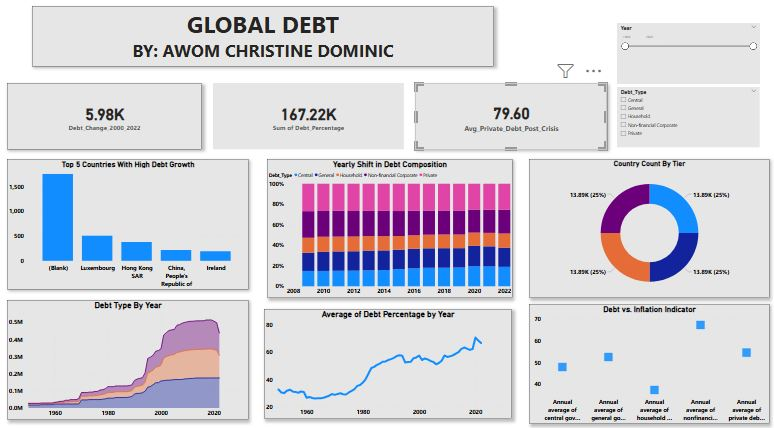

The dashboard page shown, as its layout file describes it:
{"tool":"powerbi","page":{"name":"Page 1","canvas":[2700,1500],"ordinal":0},"visuals":[{"type":"stackedAreaChart","title":"Debt Type By Year","fields":{"Series":["Global_Debt_Master.Debt_Type"],"Category":["Global_Debt_Master.Year"],"Y":["Sum(Global_Debt_Master.Year)"]},"box":[37.5,1050,833.3,412.5],"z":0},{"type":"lineChart","title":"Average of Debt Percentage by Year","fields":{"Y":["Avg(Global_Debt_Master.Debt_Percentage)"],"Category":["Global_Debt_Master.Year"]},"box":[925,1083.3,854.2,379.2],"z":1},{"type":"columnChart","title":"Top 5 Countries With High Debt Growth","fields":{"Category":["Global_Debt_Master.country_name "],"Y":["Global_Debt_Master.Debt_Change_2000_2022"]},"box":[37.5,566.7,833.3,450],"z":2},{"type":"scatterChart","title":"Debt vs. Inflation Indicator","fields":{"Y":["Avg(Global_Debt_Master.Debt_Percentage)"],"X":["Global_Debt_Master.indicator_name"]},"box":[1837.5,1066.7,829.2,412.5],"z":3},{"type":"hundredPercentStackedColumnChart","title":"Yearly Shift in Debt Composition","fields":{"Category":["Global_Debt_Master.Year"],"Series":["Global_Debt_Master.Debt_Type"],"Y":["Avg(Global_Debt_Master.Debt_Percentage)"]},"box":[933.3,566.7,845.8,479.2],"z":4},{"type":"card","fields":{"Values":["Global_Debt_Master.Avg_Private_Debt_Post_Crisis"]},"box":[1445.8,304.2,662.5,229.2],"z":5},{"type":"donutChart","title":"Country Count By Tier","fields":{"Category":["non-financial_corporate_debt.Corporate_Debt_Risk_Tier"],"Y":["CountNonNull(Global_Debt_Master.country_name)"]},"box":[1837.5,566.7,829.2,479.2],"z":6},{"type":"textbox","box":[125,37.5,1591.7,208.3],"z":10},{"type":"card","fields":{"Values":["Global_Debt_Master.Debt_Change_2000_2022"]},"box":[37.5,304.2,670.8,229.2],"z":11},{"type":"card","fields":{"Values":["Sum(non-financial_corporate_debt.Debt_Percentage)"]},"box":[750,304.2,658.3,229.2],"z":12},{"type":"slicer","fields":{"Values":["Global_Debt_Master.Debt_Type"]},"box":[2141.7,316.7,491.7,208.3],"z":13},{"type":"slicer","fields":{"Values":["Global_Debt_Master.Year"]},"box":[2141.7,95.8,491.7,208.3],"z":14}]}

Visuals, with their boxes in screenshot pixels (x1, y1, x2, y2), scaled from the page's 2700x1500 canvas onto the 774x428 screenshot:
"Debt Type By Year" stackedAreaChart: Rect(11, 300, 250, 417)
"Average of Debt Percentage by Year" lineChart: Rect(265, 309, 510, 417)
"Top 5 Countries With High Debt Growth" columnChart: Rect(11, 162, 250, 290)
"Debt vs. Inflation Indicator" scatterChart: Rect(527, 304, 764, 422)
"Yearly Shift in Debt Composition" hundredPercentStackedColumnChart: Rect(268, 162, 510, 298)
card - Global_Debt_Master.Avg_Private_Debt_Post_Crisis: Rect(414, 87, 604, 152)
"Country Count By Tier" donutChart: Rect(527, 162, 764, 298)
textbox: Rect(36, 11, 492, 70)
card - Global_Debt_Master.Debt_Change_2000_2022: Rect(11, 87, 203, 152)
card - Sum(non-financial_corporate_debt.Debt_Percentage): Rect(215, 87, 404, 152)
slicer - Global_Debt_Master.Debt_Type: Rect(614, 90, 755, 150)
slicer - Global_Debt_Master.Year: Rect(614, 27, 755, 87)
